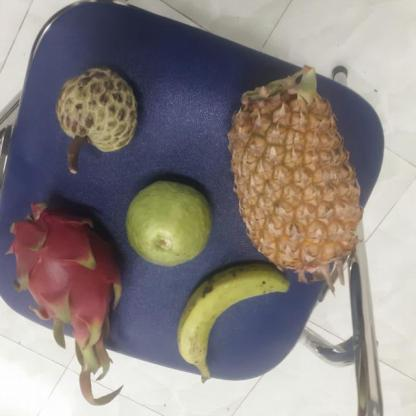annona: (57, 66, 144, 154)
banana: (180, 265, 296, 380)
guava: (127, 182, 217, 266)
pineapple: (230, 75, 366, 275)
pitaya: (15, 202, 129, 335)
